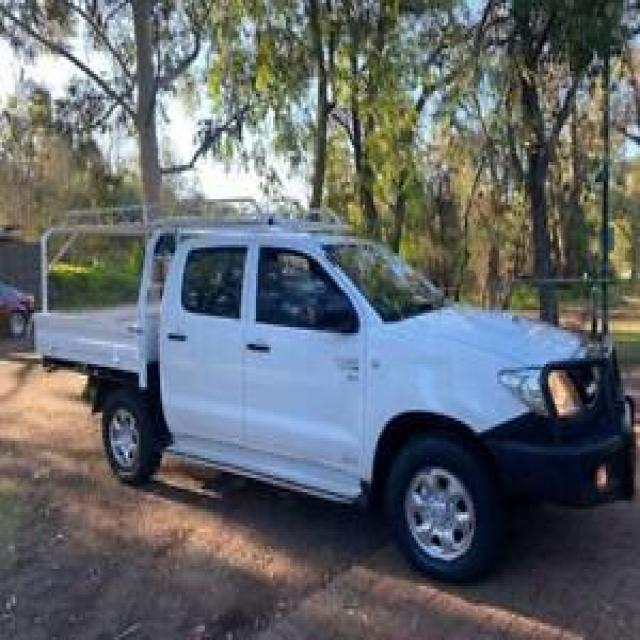light_vehicle: (25, 197, 638, 578)
